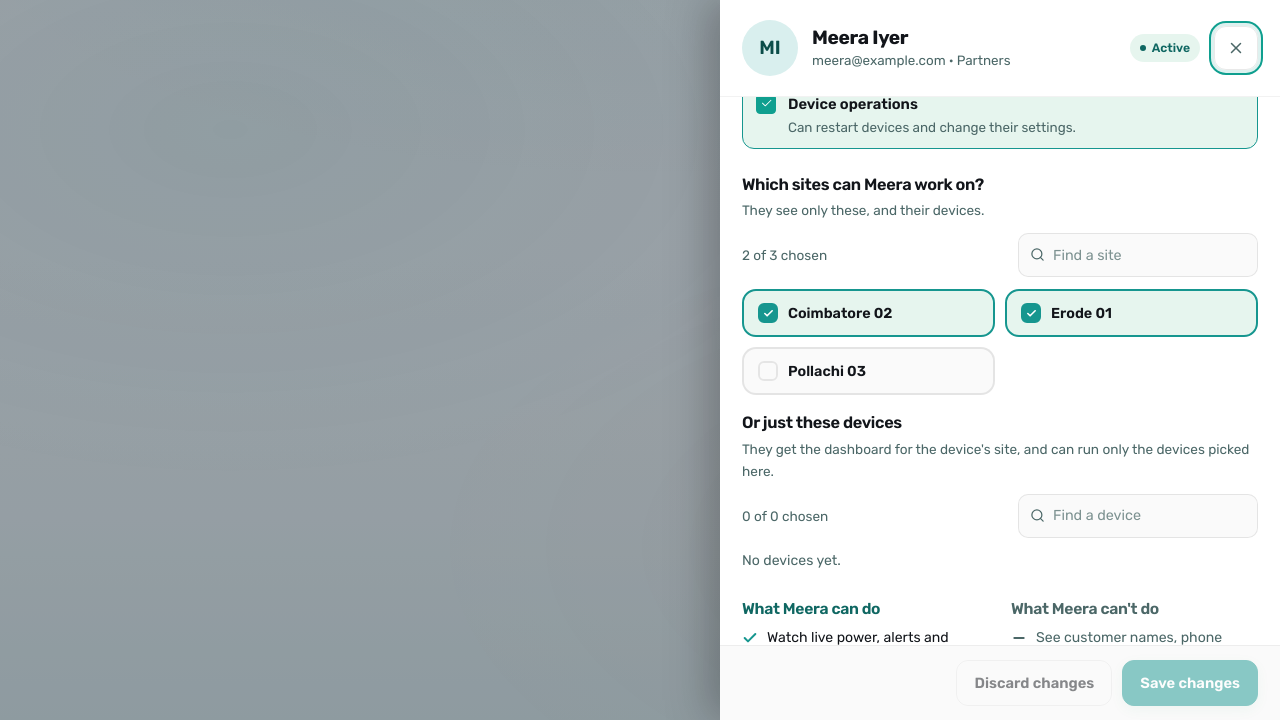
Test: PersonPanel › shows a friendly error when the save fails
The image size is (1280, 720).
(page scrolled)
Click the button "Pollachi 03" at (868, 371), box [742,347,995,395]
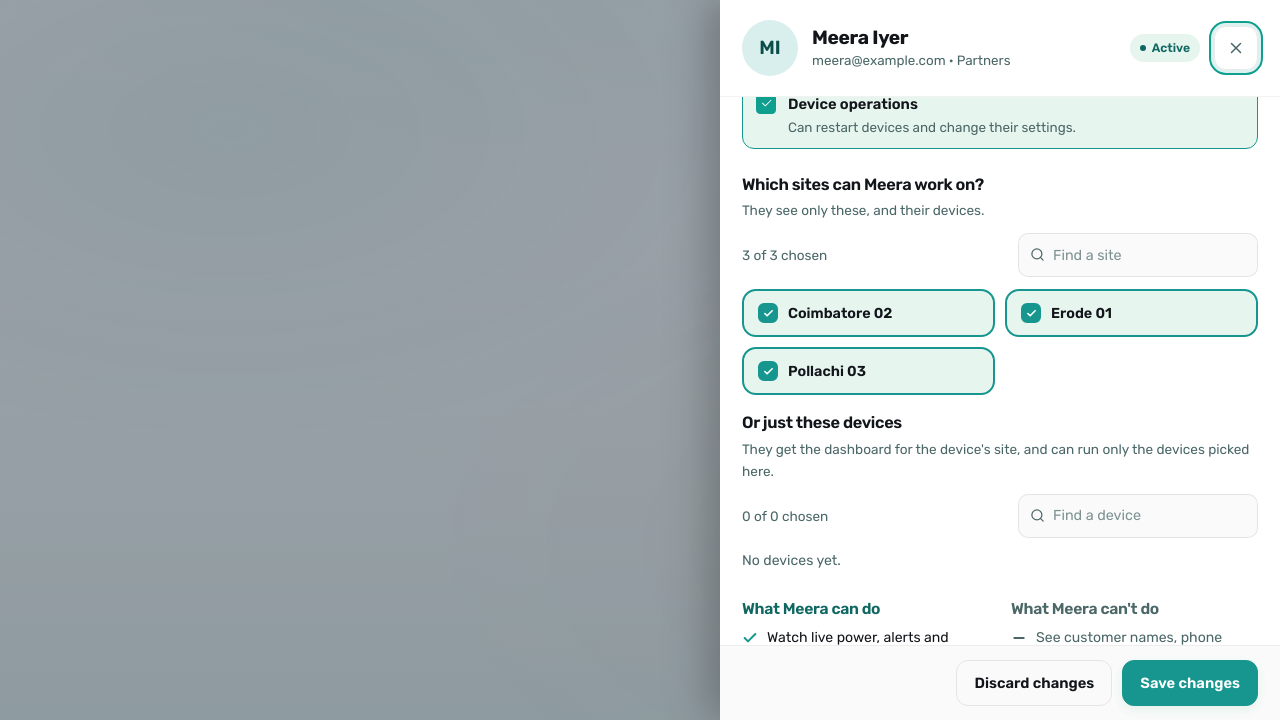
Click the button "Save changes" at (1190, 683), box [1122,660,1258,706]
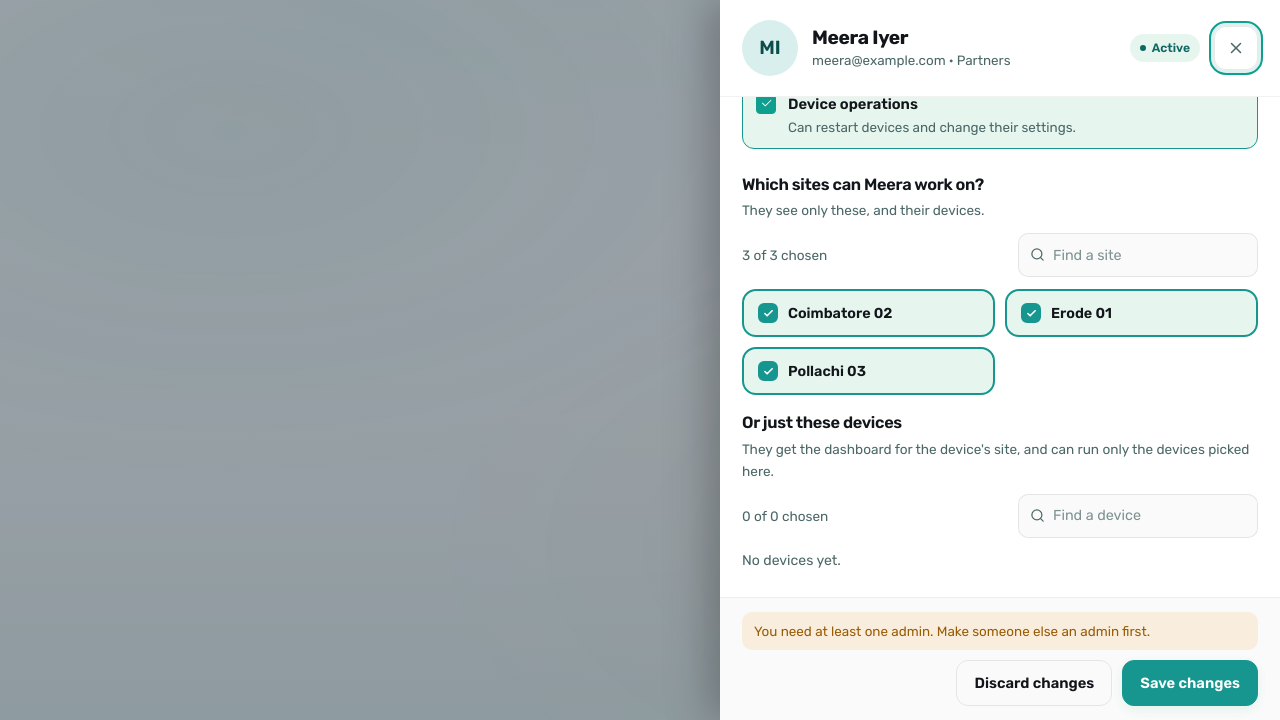
Expected: the text "You need at least one admin. Make someone else an admin first." is shown, [742,612,1258,650]
